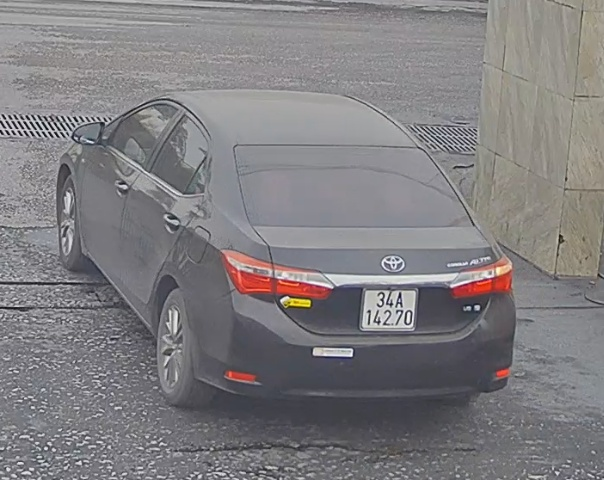vehicle plate: (360, 283, 418, 333)
